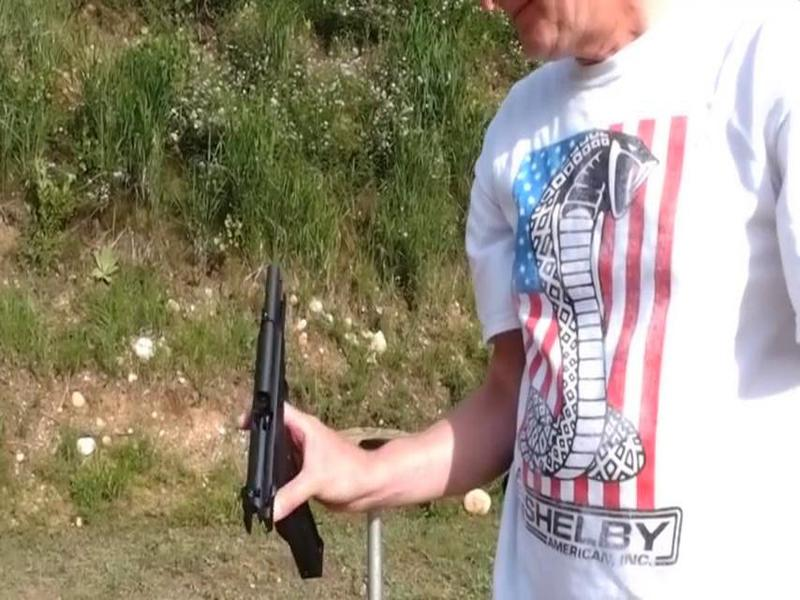Pistola: (213, 250, 379, 586)
